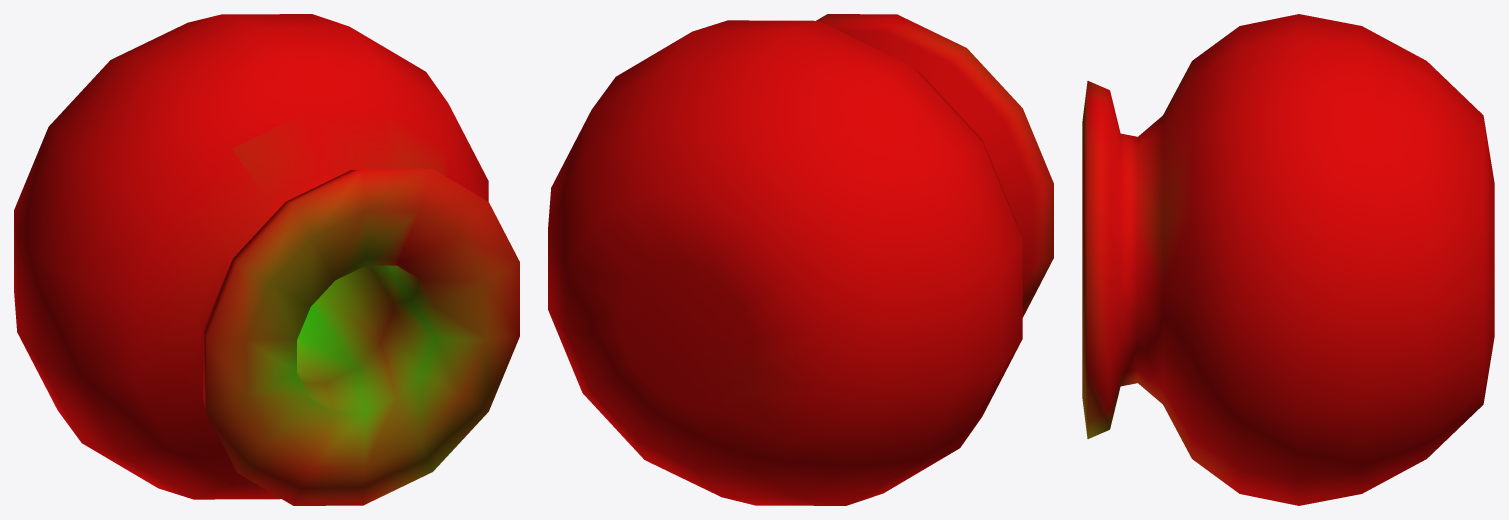
Rendered from SpawnPointExplosivePotBody.fbx.
The picture shows the model from 3 angles, left to right: view 1: azimuth 30°, elevation 25°; view 2: azimuth 150°, elevation 25°; view 3: azimuth 270°, elevation 25°; orthographic projection. The views are drawn at different scales.
Parts seen in each view (by area): view 1: SpawnPointExplosivePotBody; view 2: SpawnPointExplosivePotBody; view 3: SpawnPointExplosivePotBody.
Part boxes in pixels (left/top/right/bottom): SpawnPointExplosivePotBody: left=14, top=14, right=519, bottom=505; SpawnPointExplosivePotBody: left=548, top=14, right=1053, bottom=505; SpawnPointExplosivePotBody: left=1082, top=14, right=1494, bottom=505.
Bounding box in the file's own units: 1.95 × 2 × 1.68.
